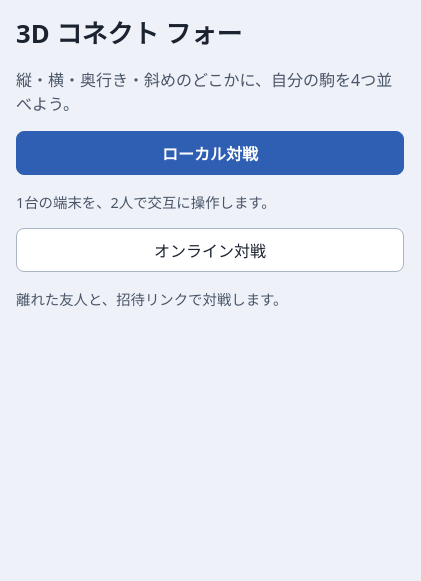
Scenario: ルームの出入り・復帰 › 待機中に「やめる」を押すと、ロビーに戻る
Click the button "オンライン対戦" at (210, 250), box [16, 228, 404, 272]
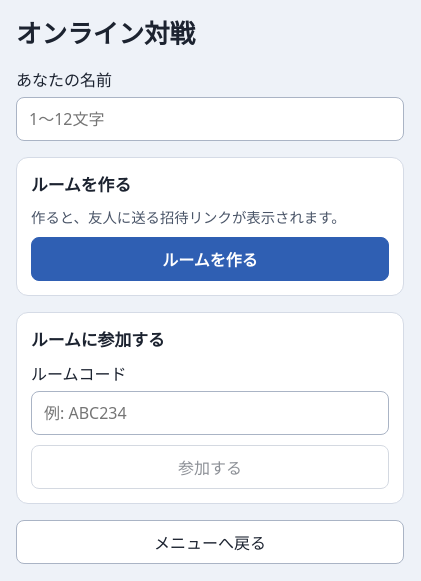
Type "あや" into the field labelled "あなたの名前" at (210, 119), box [16, 97, 404, 141]
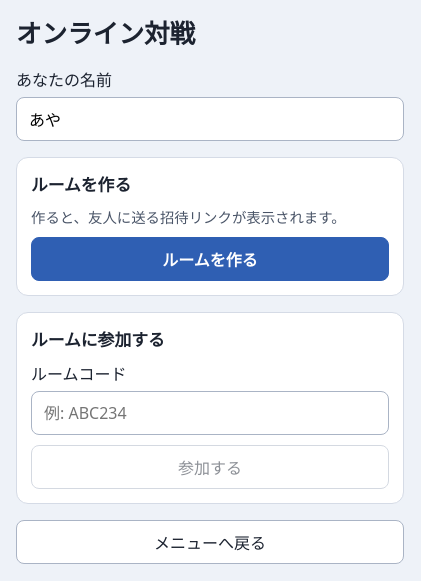
Click the button "ルームを作る" at (210, 259), box [31, 237, 389, 281]
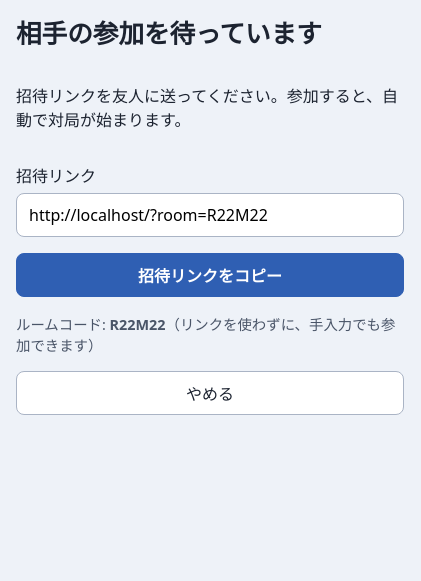
Result: the heading "相手の参加を待っています" is shown at [16, 16, 322, 51]
Click the button "やめる" at (210, 393), box [16, 371, 404, 415]
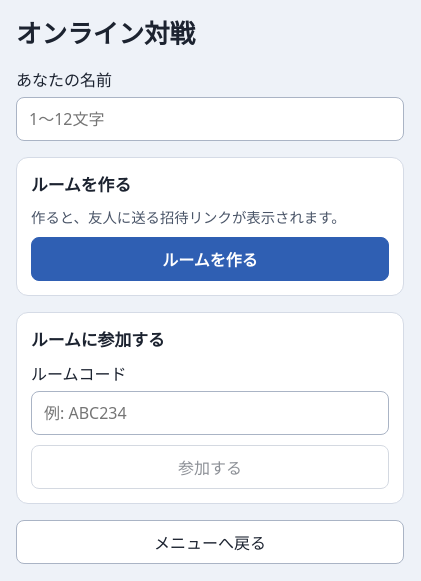
Result: the button "ルームを作る" is shown at [31, 237, 389, 281]
